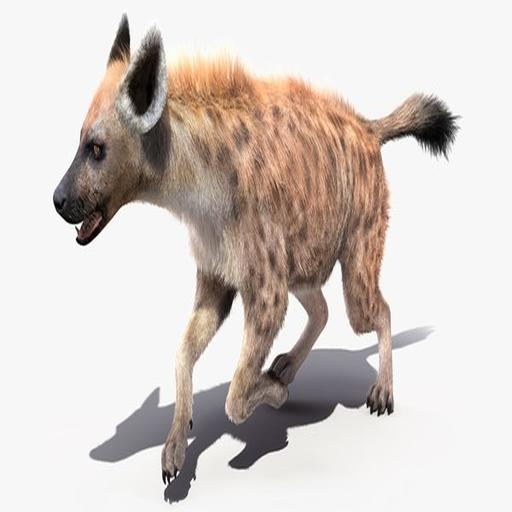Hyena: (50, 10, 469, 498)
